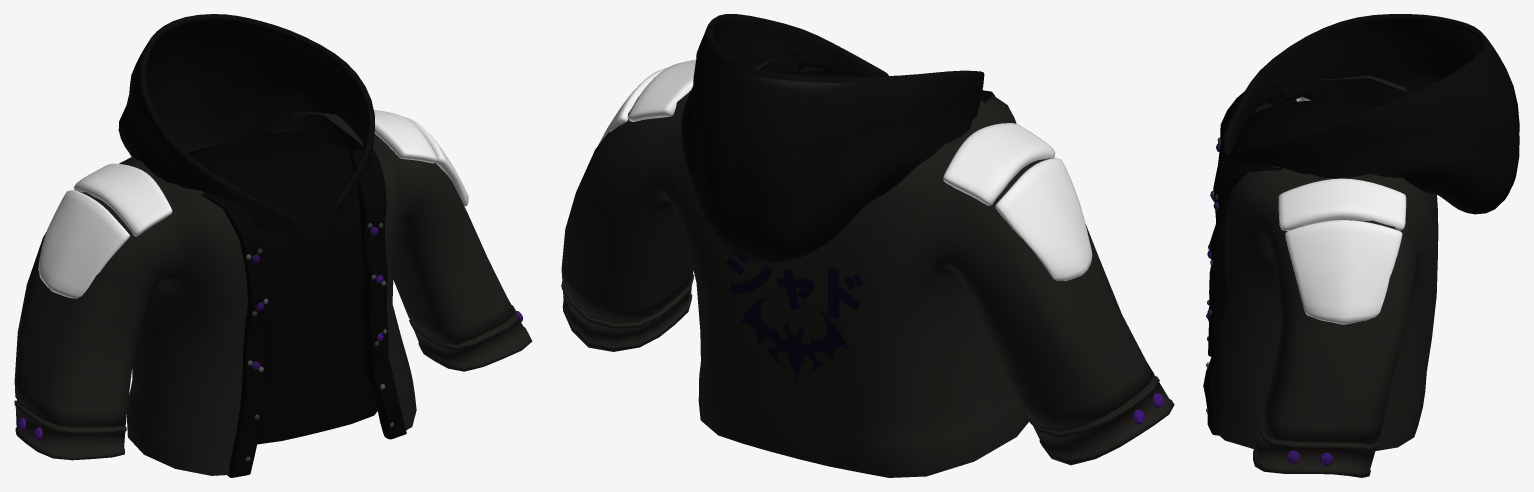
Rendered from Techwear Top.glb.
3 renders of one model, left to right at view 1: azimuth 30°, elevation 25°; view 2: azimuth 150°, elevation 25°; view 3: azimuth 270°, elevation 25°, orthographic. The views are drawn at different scales.
Visible parts, largest first — view 1: Jacket; view 2: Jacket; view 3: Jacket.
Boxes of the visible parts, bbox=[...] form: Jacket: bbox=[14, 14, 532, 477]; Jacket: bbox=[561, 14, 1174, 477]; Jacket: bbox=[1203, 14, 1519, 477].
Bounding box in the file's own units: 0.836 × 0.5725 × 0.4561.
Materials: 3 (3 with a texture image).
